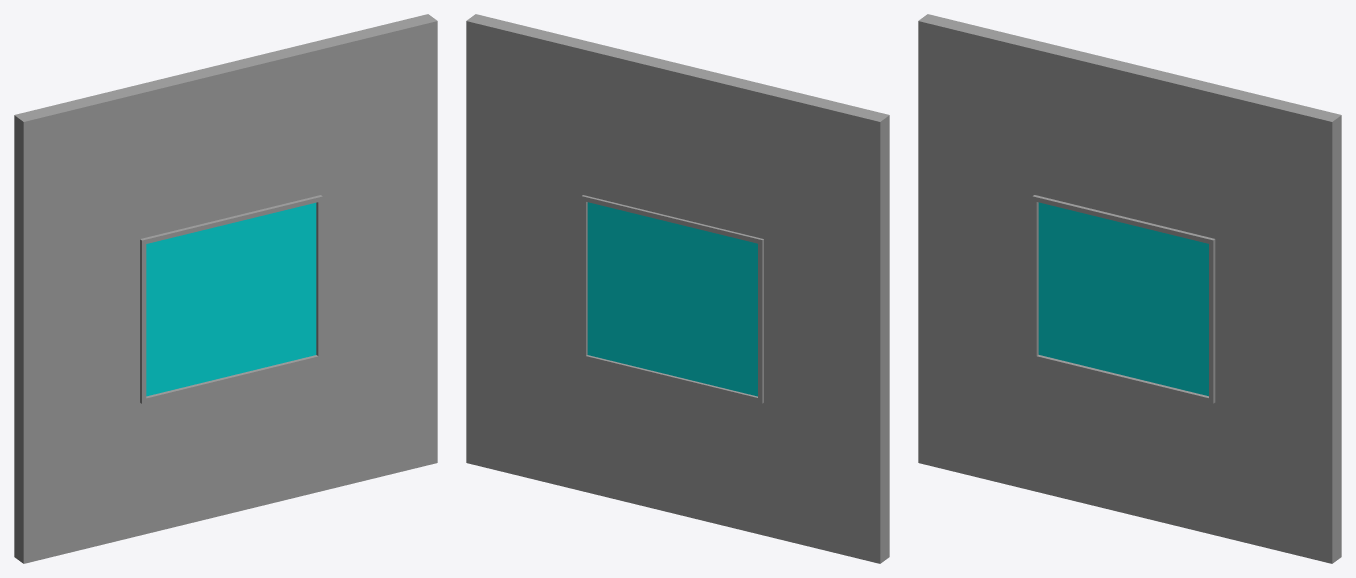
The model's file is SM_WallFrontWindow.fbx.
3 views of the same model, side by side, from view 1: azimuth 30°, elevation 25°; view 2: azimuth 150°, elevation 25°; view 3: azimuth 330°, elevation 25° (orthographic).
Visible parts, largest first — view 1: SM_WallFrontWindow; view 2: SM_WallFrontWindow; view 3: SM_WallFrontWindow.
Boxes of the visible parts, <box> form: SM_WallFrontWindow: <box>14,14,437,563</box>; SM_WallFrontWindow: <box>466,14,889,563</box>; SM_WallFrontWindow: <box>918,14,1341,563</box>.
Bounding box in the file's own units: 500 × 510 × 27.33.
